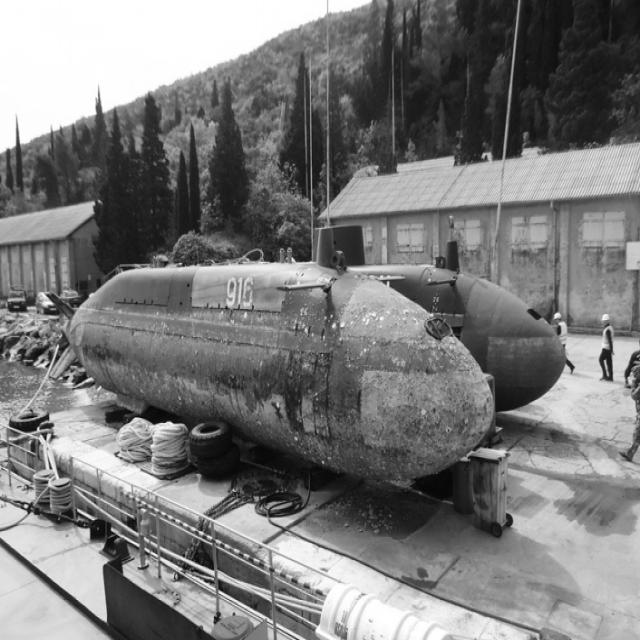submarine: (36, 264, 498, 492), (225, 226, 577, 406)
